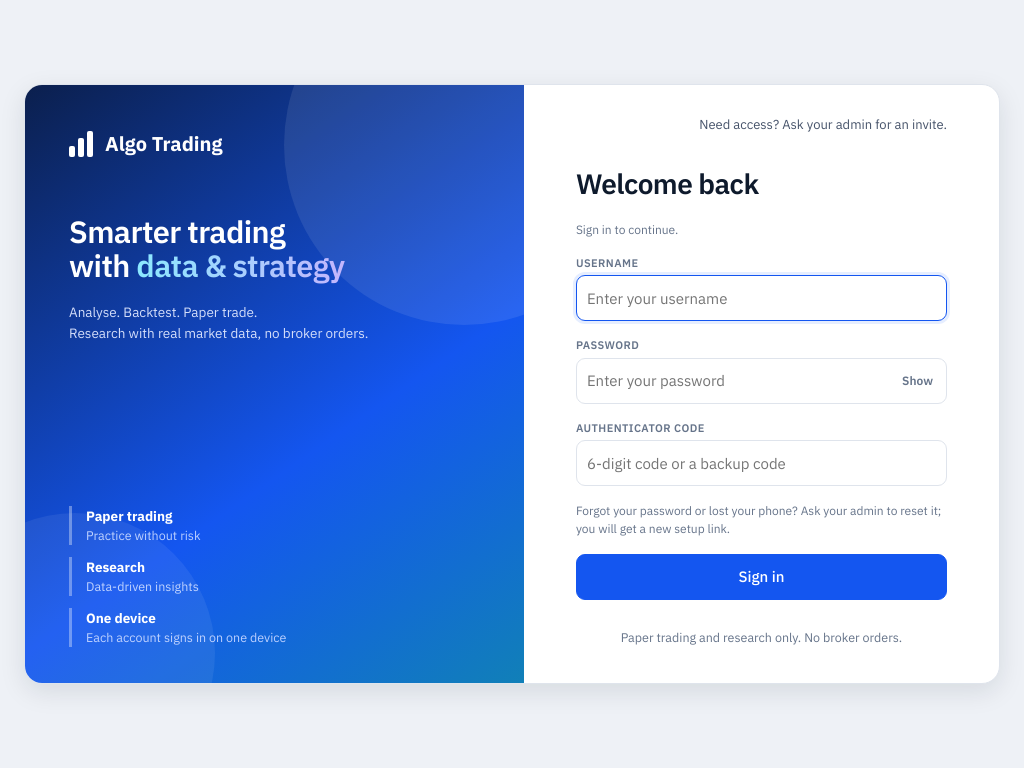
Test case: LoginPage › shows no takeover button when the deployment switched it off
The width and height of the screenshot is (1024, 768).
Type "rahul" into the field labelled "Username".
click(761, 298); type("rahul")  # box x1=576 y1=275 x2=947 y2=321
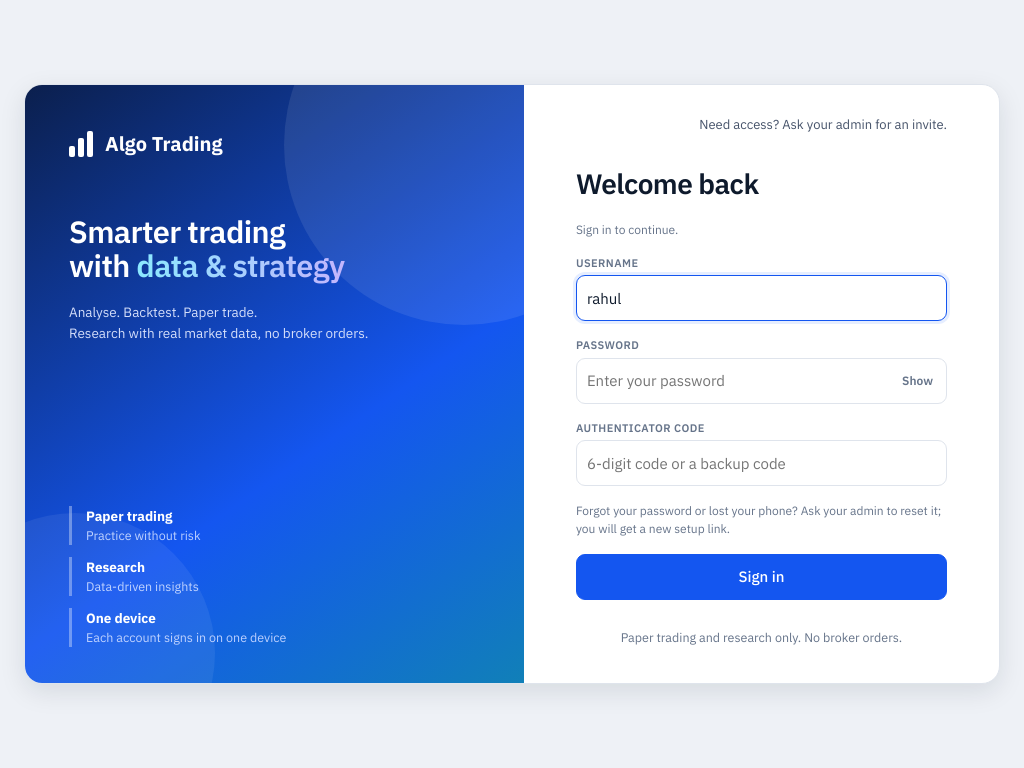
Type "a long password!" into the password field labelled "Password Show".
click(761, 381); type("a long password!")  # box x1=576 y1=358 x2=947 y2=404
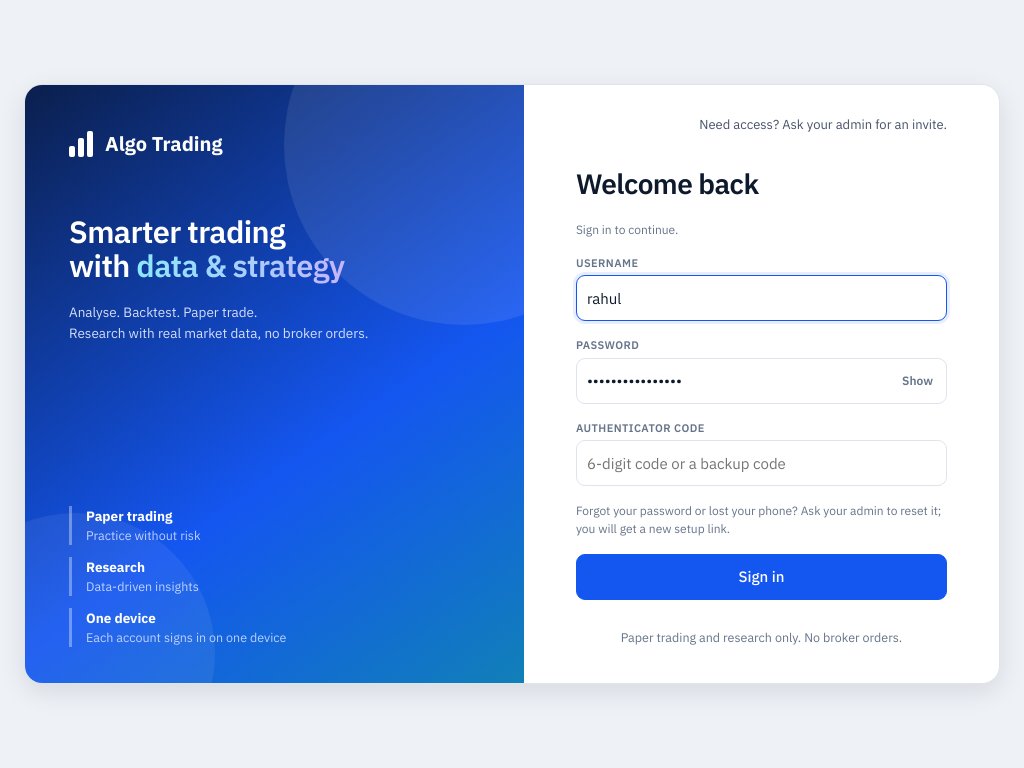
Type "123456" into the field labelled "Authenticator code".
click(761, 463); type("123456")  # box x1=576 y1=440 x2=947 y2=486
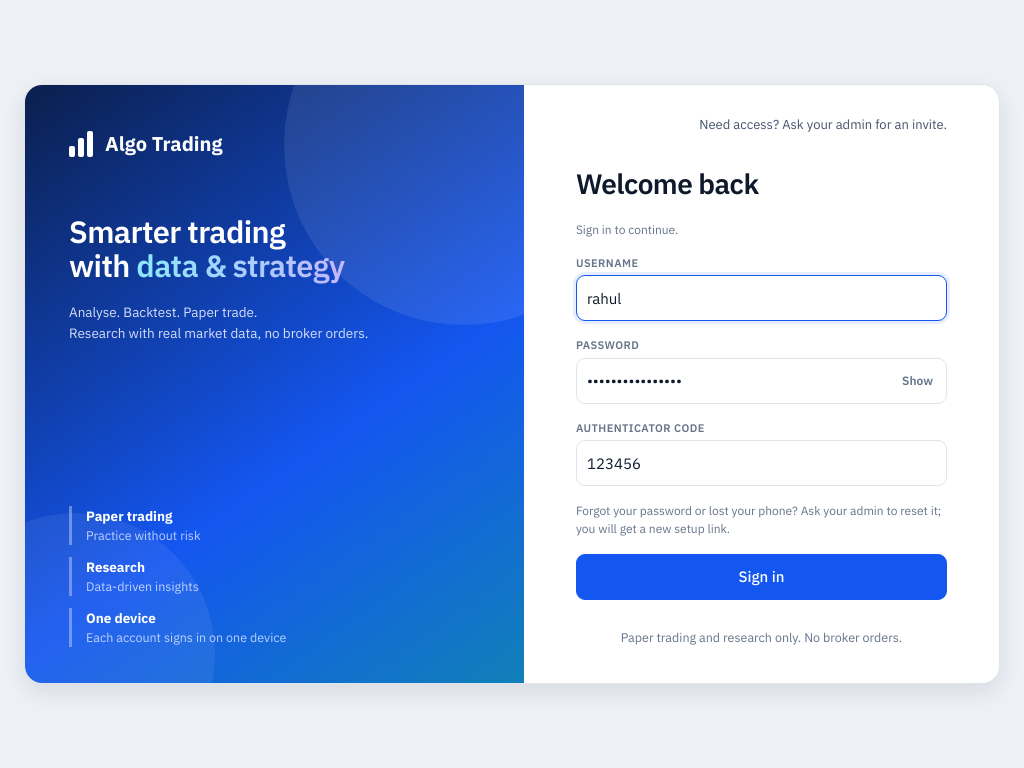
Click the button "Sign in".
click(761, 577)  # box x1=576 y1=554 x2=947 y2=600
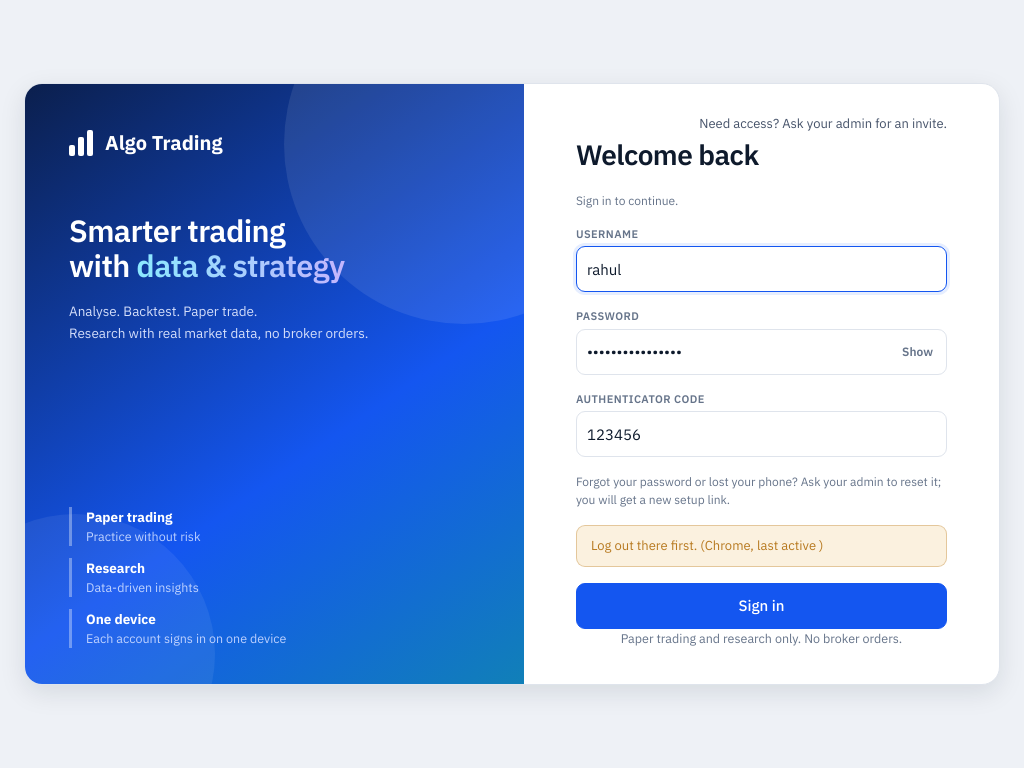
Now the message "Log out there first. (Chrome, last active )" is shown, box x1=576 y1=525 x2=947 y2=567
